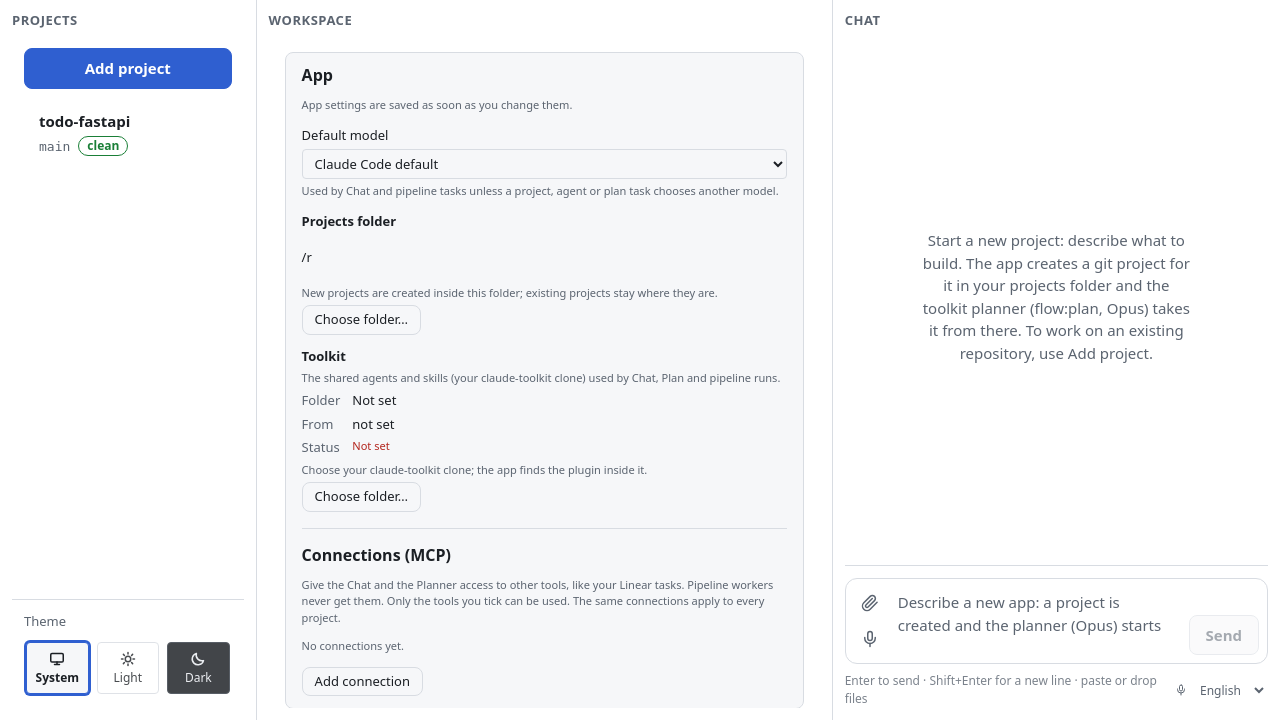
Test: new project to planner flow › Add project > New project switches the chat to a new project; selecting a project switches back
The image size is (1280, 720).
Click the button "todo-fastapi main clean". click: (128, 133)
box: [24, 101, 232, 165]
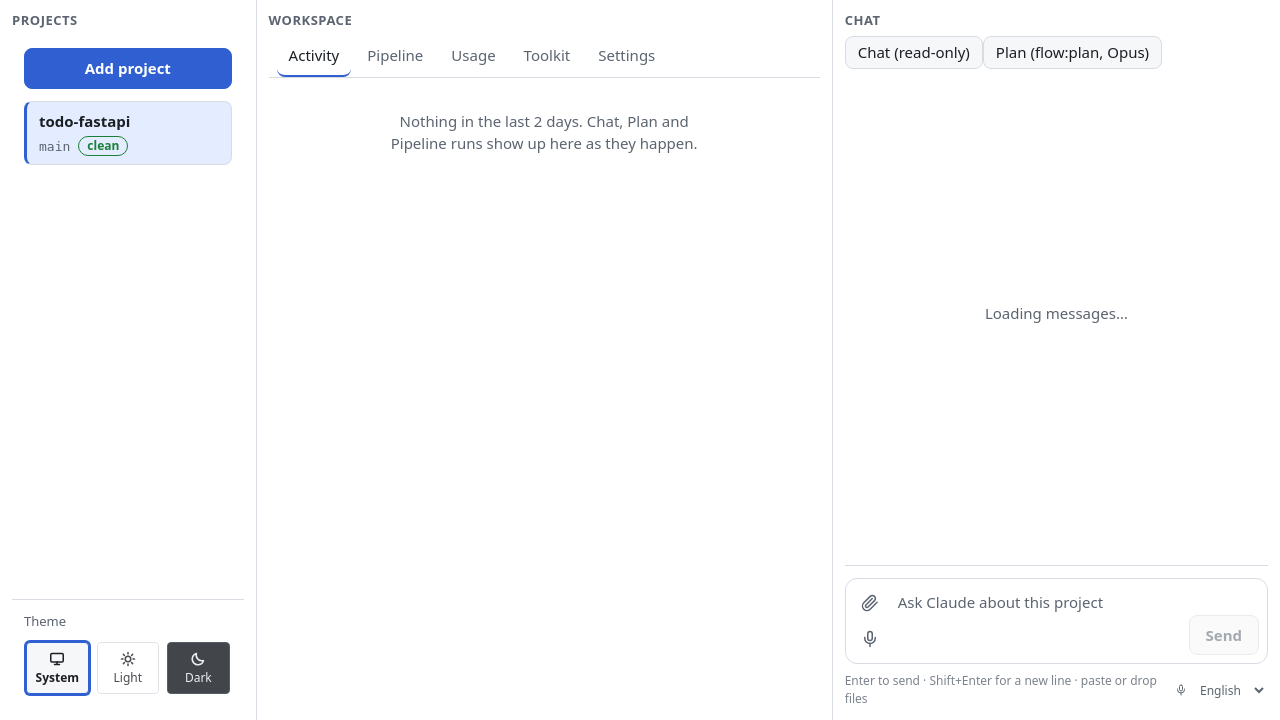
Click the button "Add project". click: (128, 69)
box: [24, 48, 232, 89]
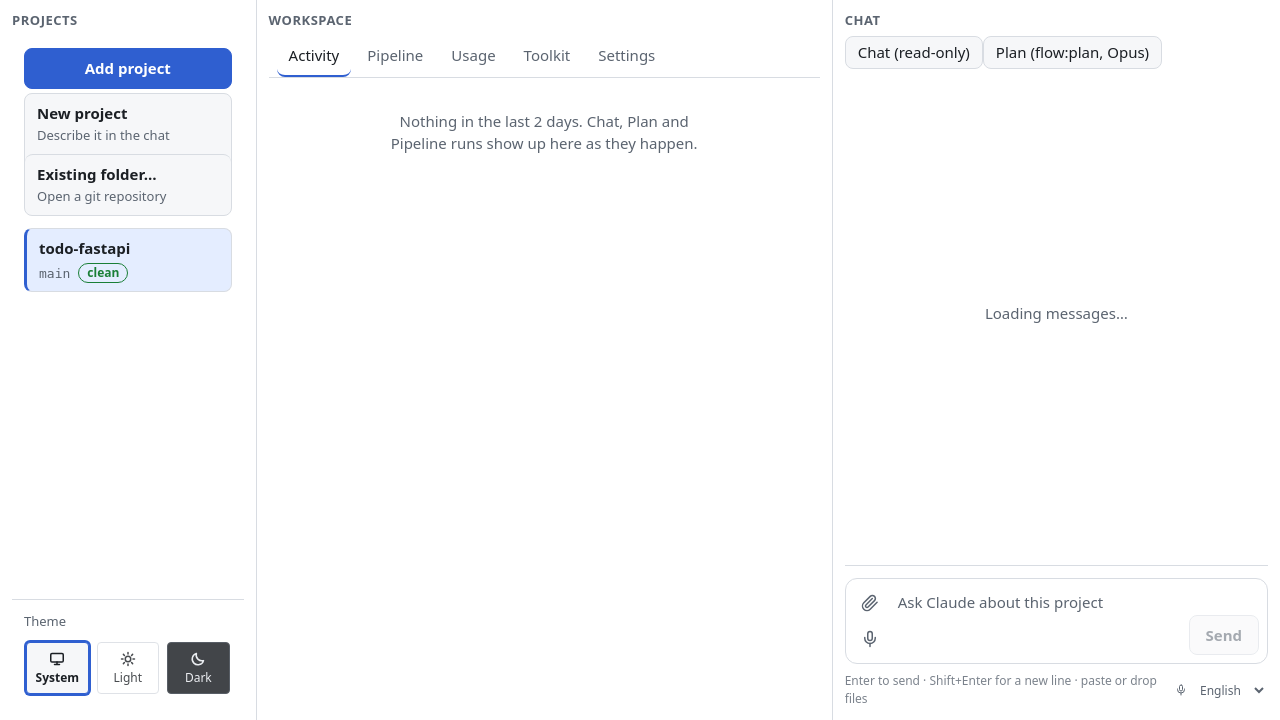
Click the button "New project Describe it in the chat". click: (128, 124)
box: [25, 94, 231, 154]
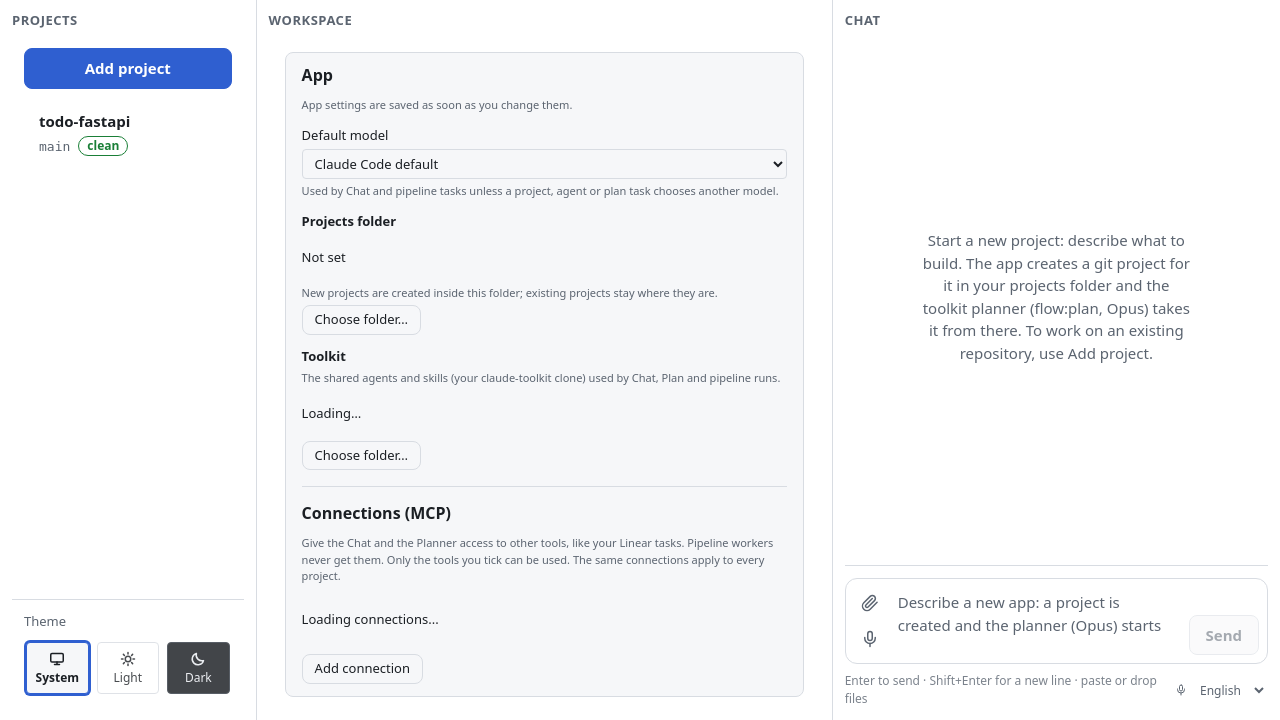
Check: the text "Start a new project" is shown, box [923, 230, 1190, 363]
Click the button "todo-fastapi main clean". click: (128, 133)
box: [24, 101, 232, 165]
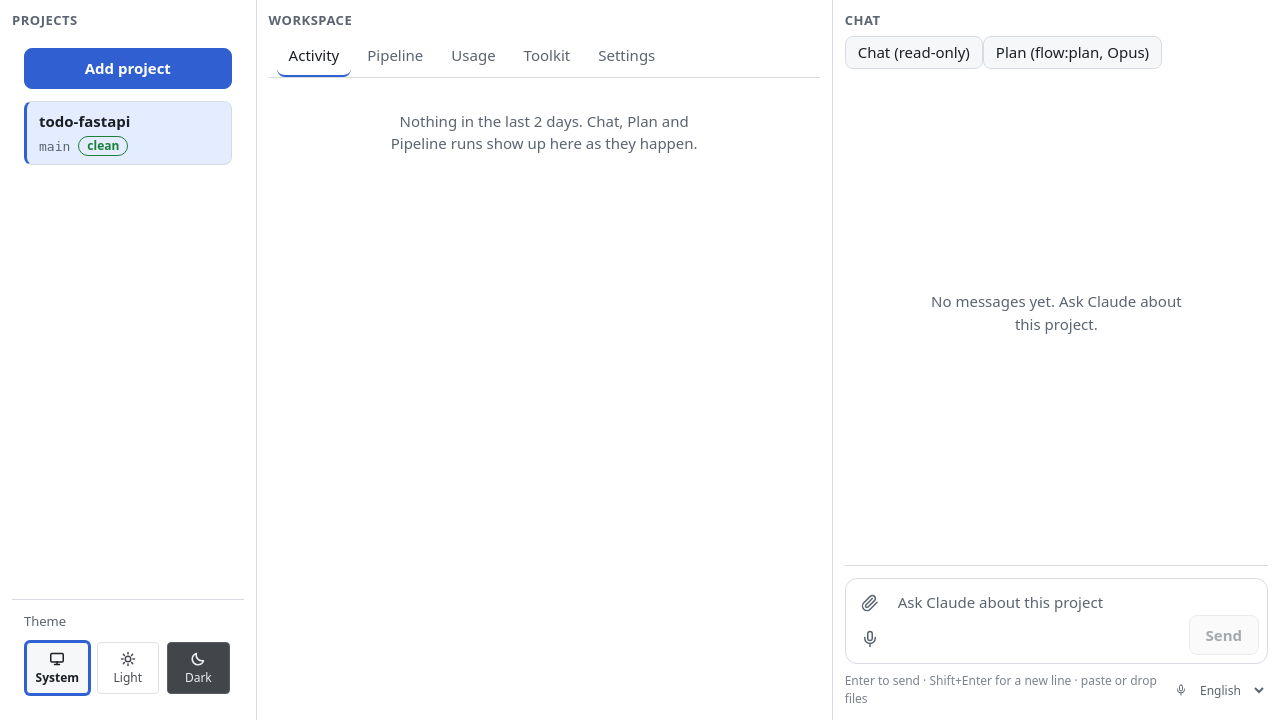
Check: the element named "Chat mode" is shown, box [845, 36, 1162, 69]
